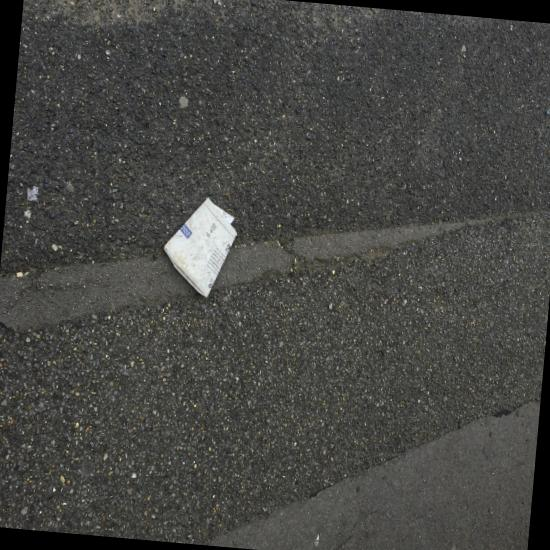Paper cup: (163, 197, 237, 297)
